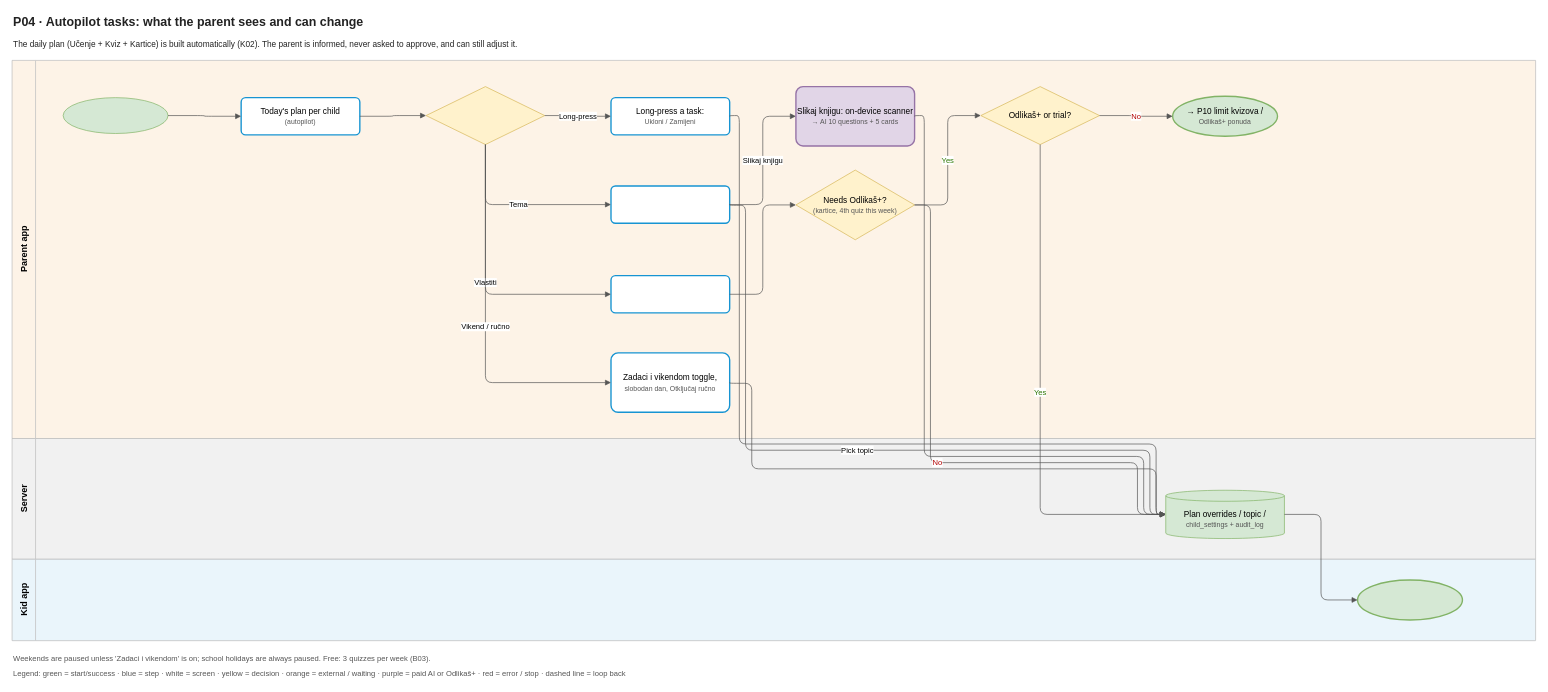
Some shapes in this 1548 by 692 pixel diagram are drawn without their labels. Each missing label, with the box of its shape:
+ Vlastiti zadatak (kviz / kartice / tema): (610, 275, 730, 313)
Action?: (425, 86, 545, 145)
Kid plan updates (realtime): (1357, 579, 1463, 620)
Parent: Zadaci tab: (62, 97, 168, 134)
Tema za Luku (curriculum list): (610, 185, 730, 224)
